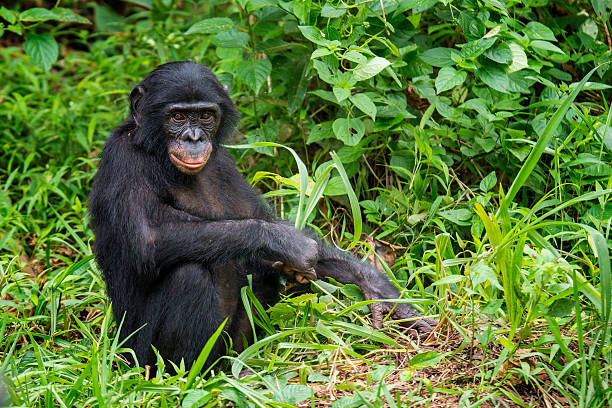chimpanzee: (119, 58, 238, 186)
